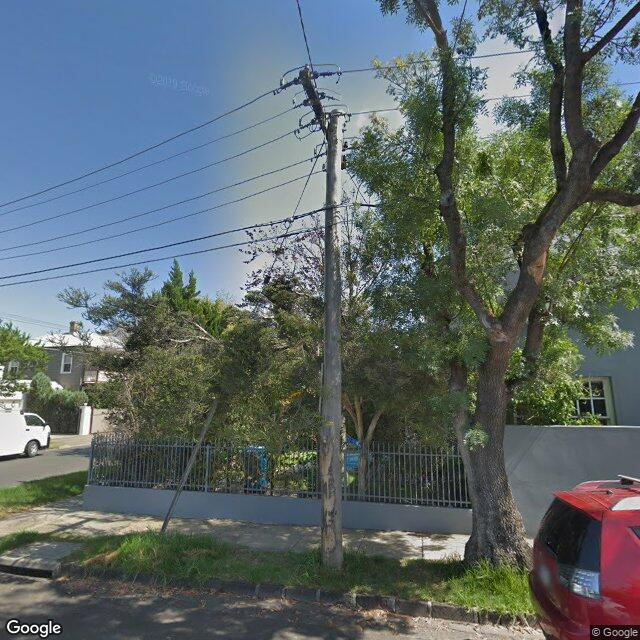crossarm: (274, 62, 351, 173)
timber-pole: (320, 108, 346, 569)
